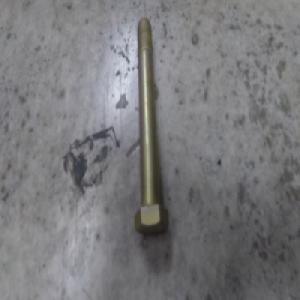Bolt: (135, 23, 171, 234)
